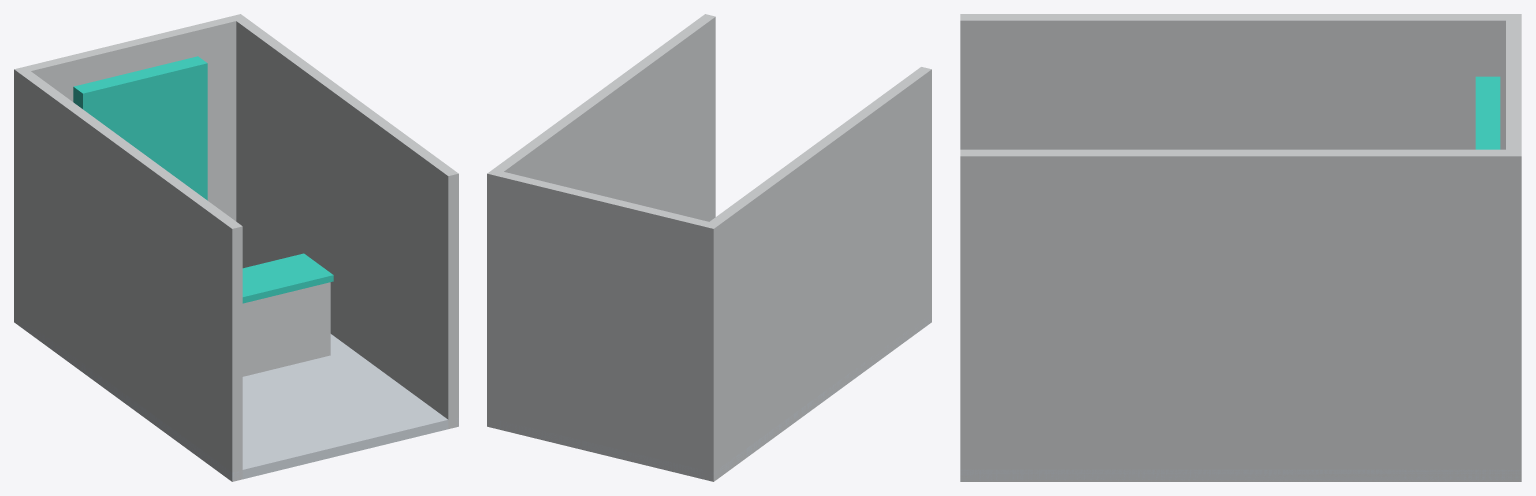
3 views of the same model, side by side, from view 1: azimuth 30°, elevation 25°; view 2: azimuth 150°, elevation 25°; view 3: azimuth 270°, elevation 25° (orthographic). The views are drawn at different scales.
Visible parts, largest first — view 1: Exhibition Booth Concept; view 2: Exhibition Booth Concept; view 3: Exhibition Booth Concept.
Boxes of the visible parts, x1,y1,x2,y2 form: Exhibition Booth Concept: [14, 14, 458, 481]; Exhibition Booth Concept: [487, 14, 931, 481]; Exhibition Booth Concept: [960, 14, 1521, 481].
Bounding box in the file's own units: 3 × 3.2 × 5.
